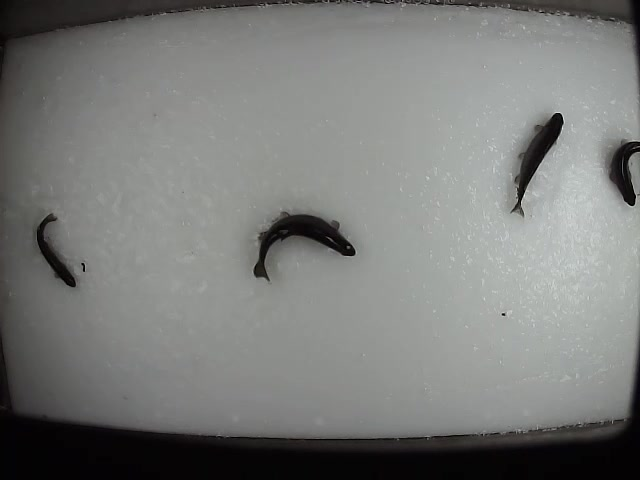fish: (252, 204, 357, 286), (508, 110, 566, 221), (35, 211, 81, 288)
